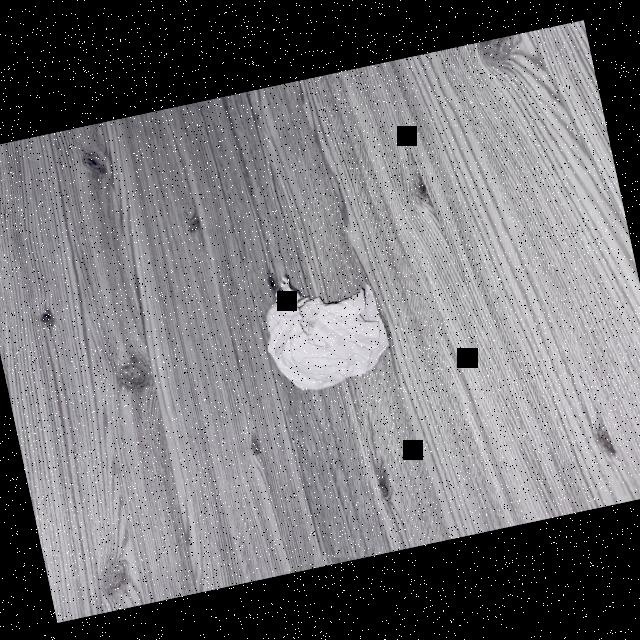scrap_paper: (250, 260, 394, 402)
